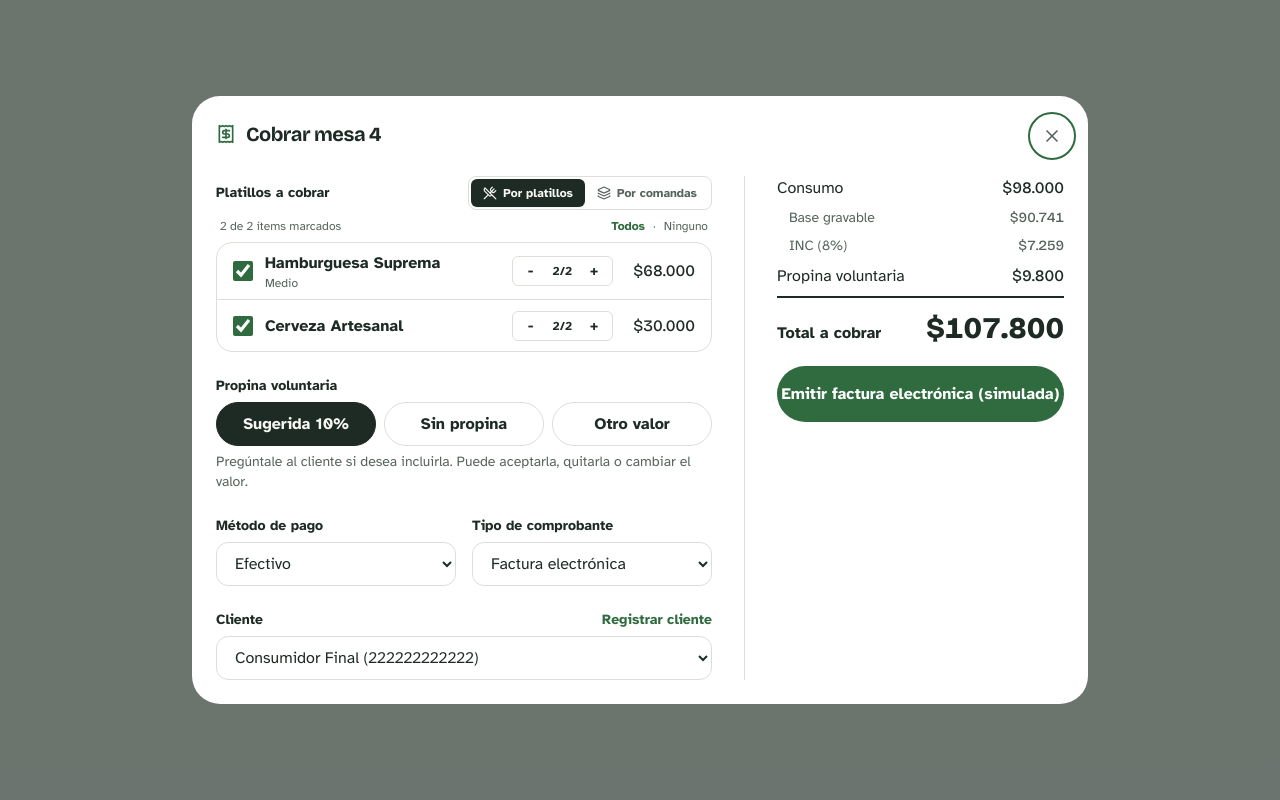
Test: Split Billing (Separar cuenta por platillos) › permite cambiar a modo por comandas completas
// Cambiamos al modo por comandas
Click the button "Por comandas" at point(647, 193), box [585,179,709,207]
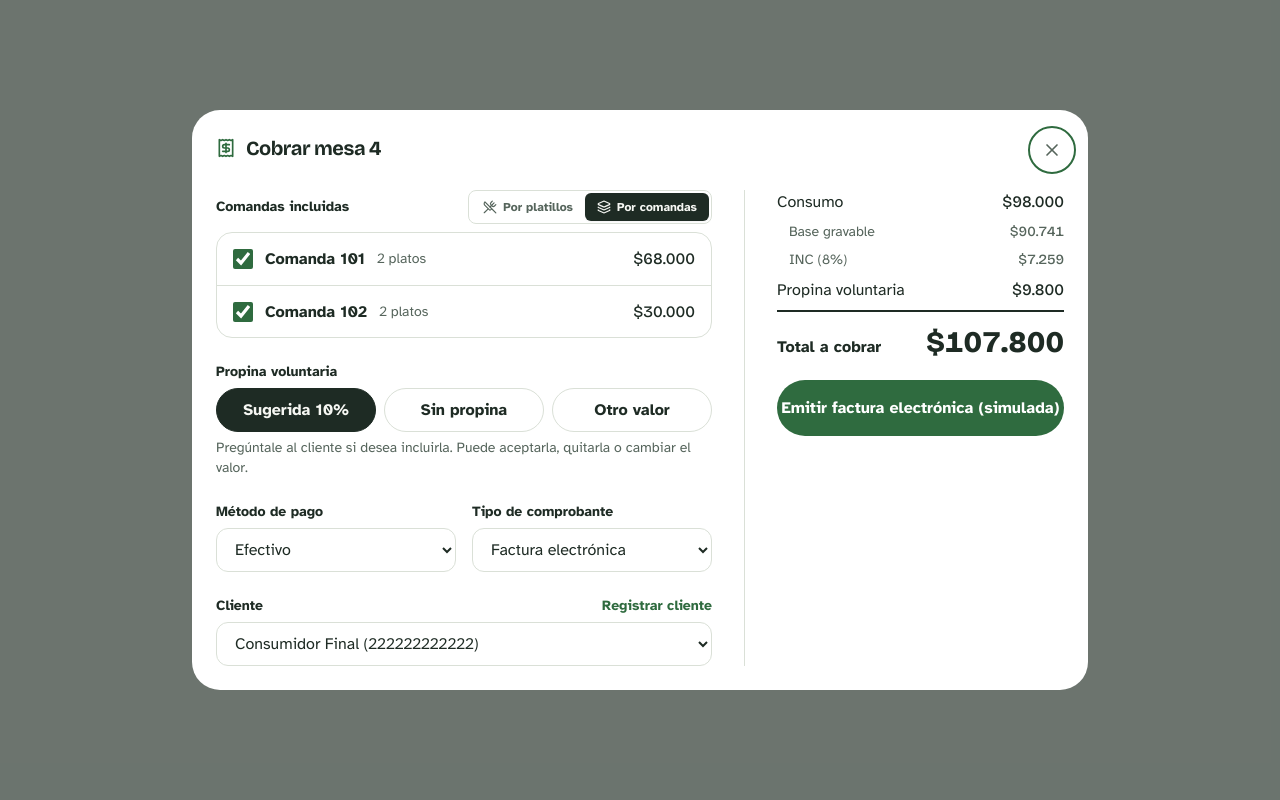
Check: the text "Comanda 101" is shown, box [265,247,365,271]
Check: the text "Comanda 102" is shown, box [265,300,367,324]
